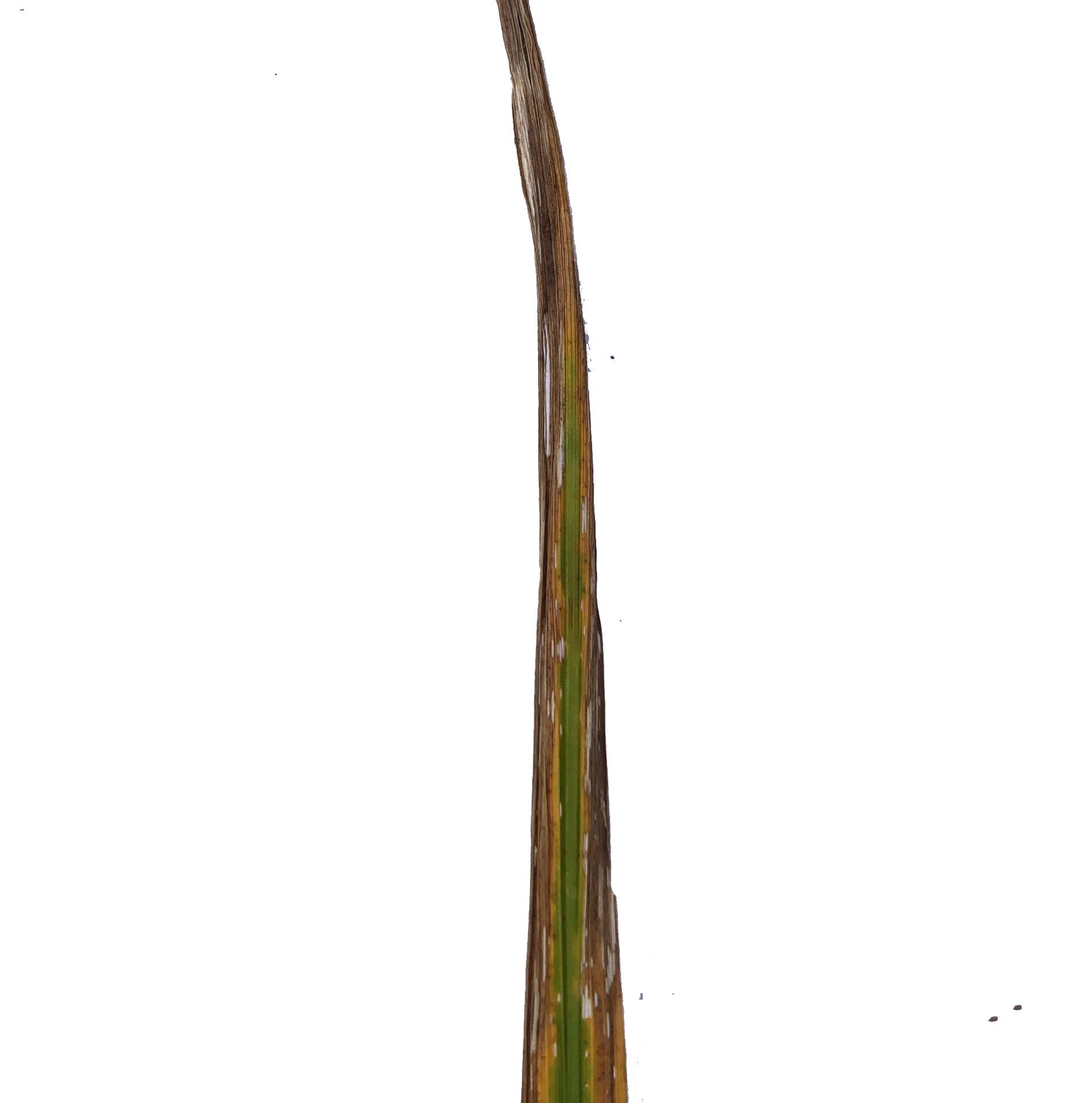Rice blast: (492, 0, 631, 1103)
